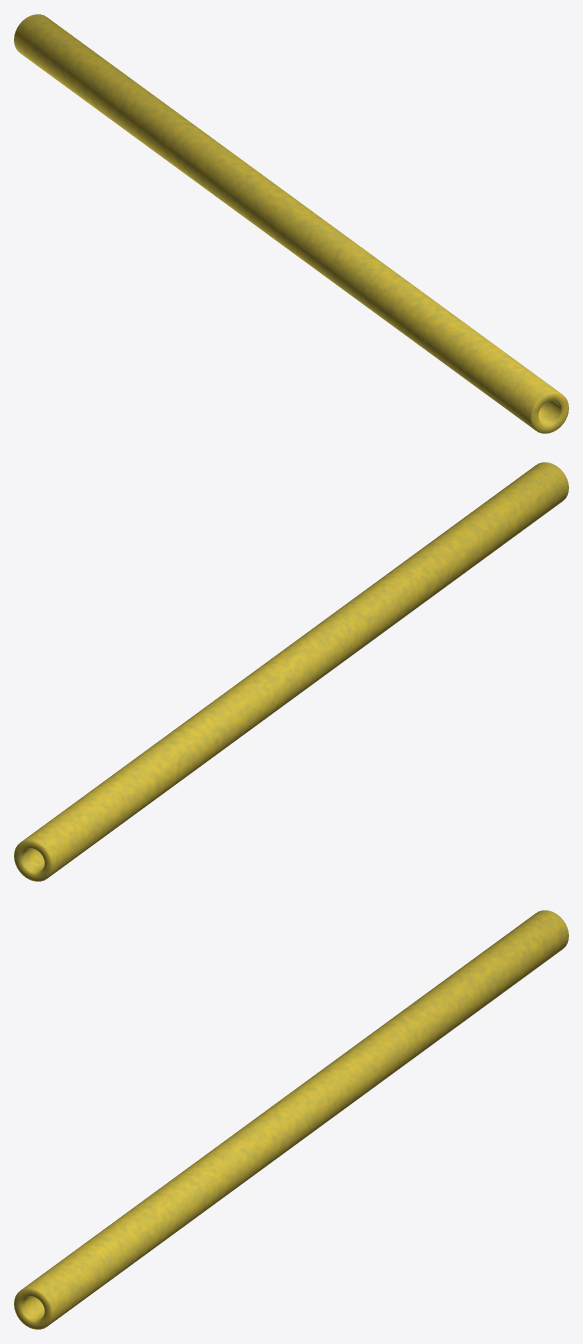
File: pool_noodle.glb
3 views of the same model, one above another, from view 1: azimuth 30°, elevation 25°; view 2: azimuth 150°, elevation 25°; view 3: azimuth 330°, elevation 25° (orthographic).
Visible parts, largest first — view 1: Cylinder; view 2: Cylinder; view 3: Cylinder.
Part boxes in pixels (bbox=[...]): Cylinder: bbox=[14, 14, 568, 433]; Cylinder: bbox=[14, 462, 568, 881]; Cylinder: bbox=[14, 910, 568, 1329].
Bounding box in the file's own units: 0.0858 × 0.0858 × 1.97.
1 material, 1 textured.
